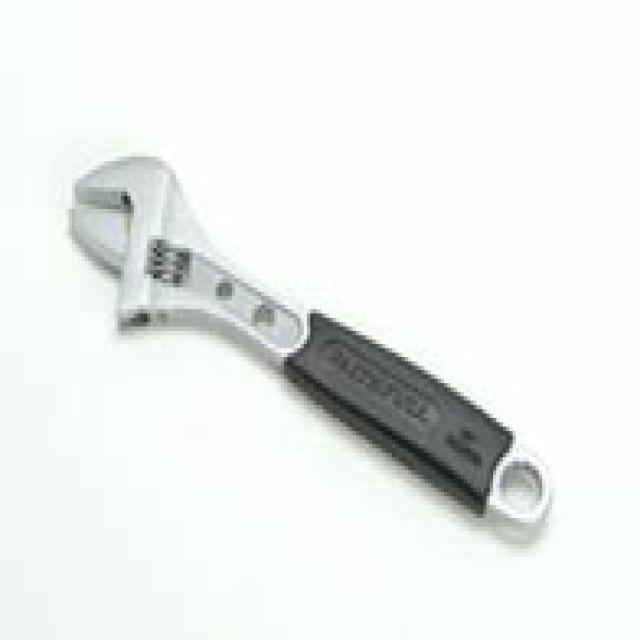wrench: (59, 133, 621, 631)
